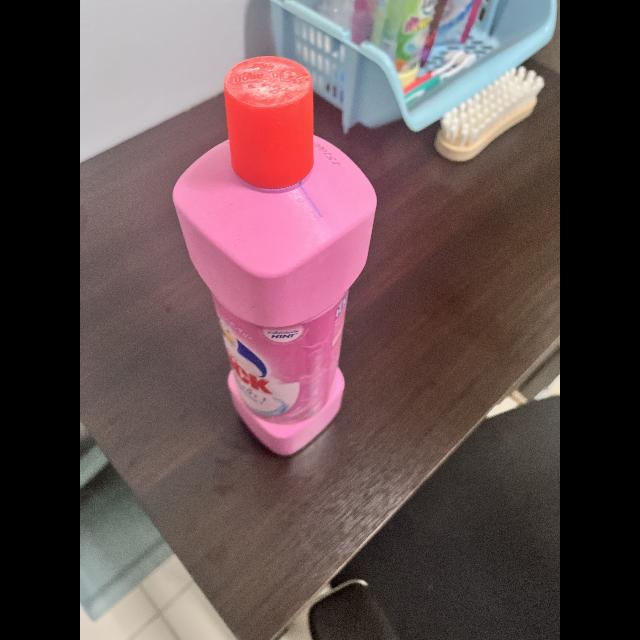chemical_plastic_bottle: (172, 54, 376, 463)
